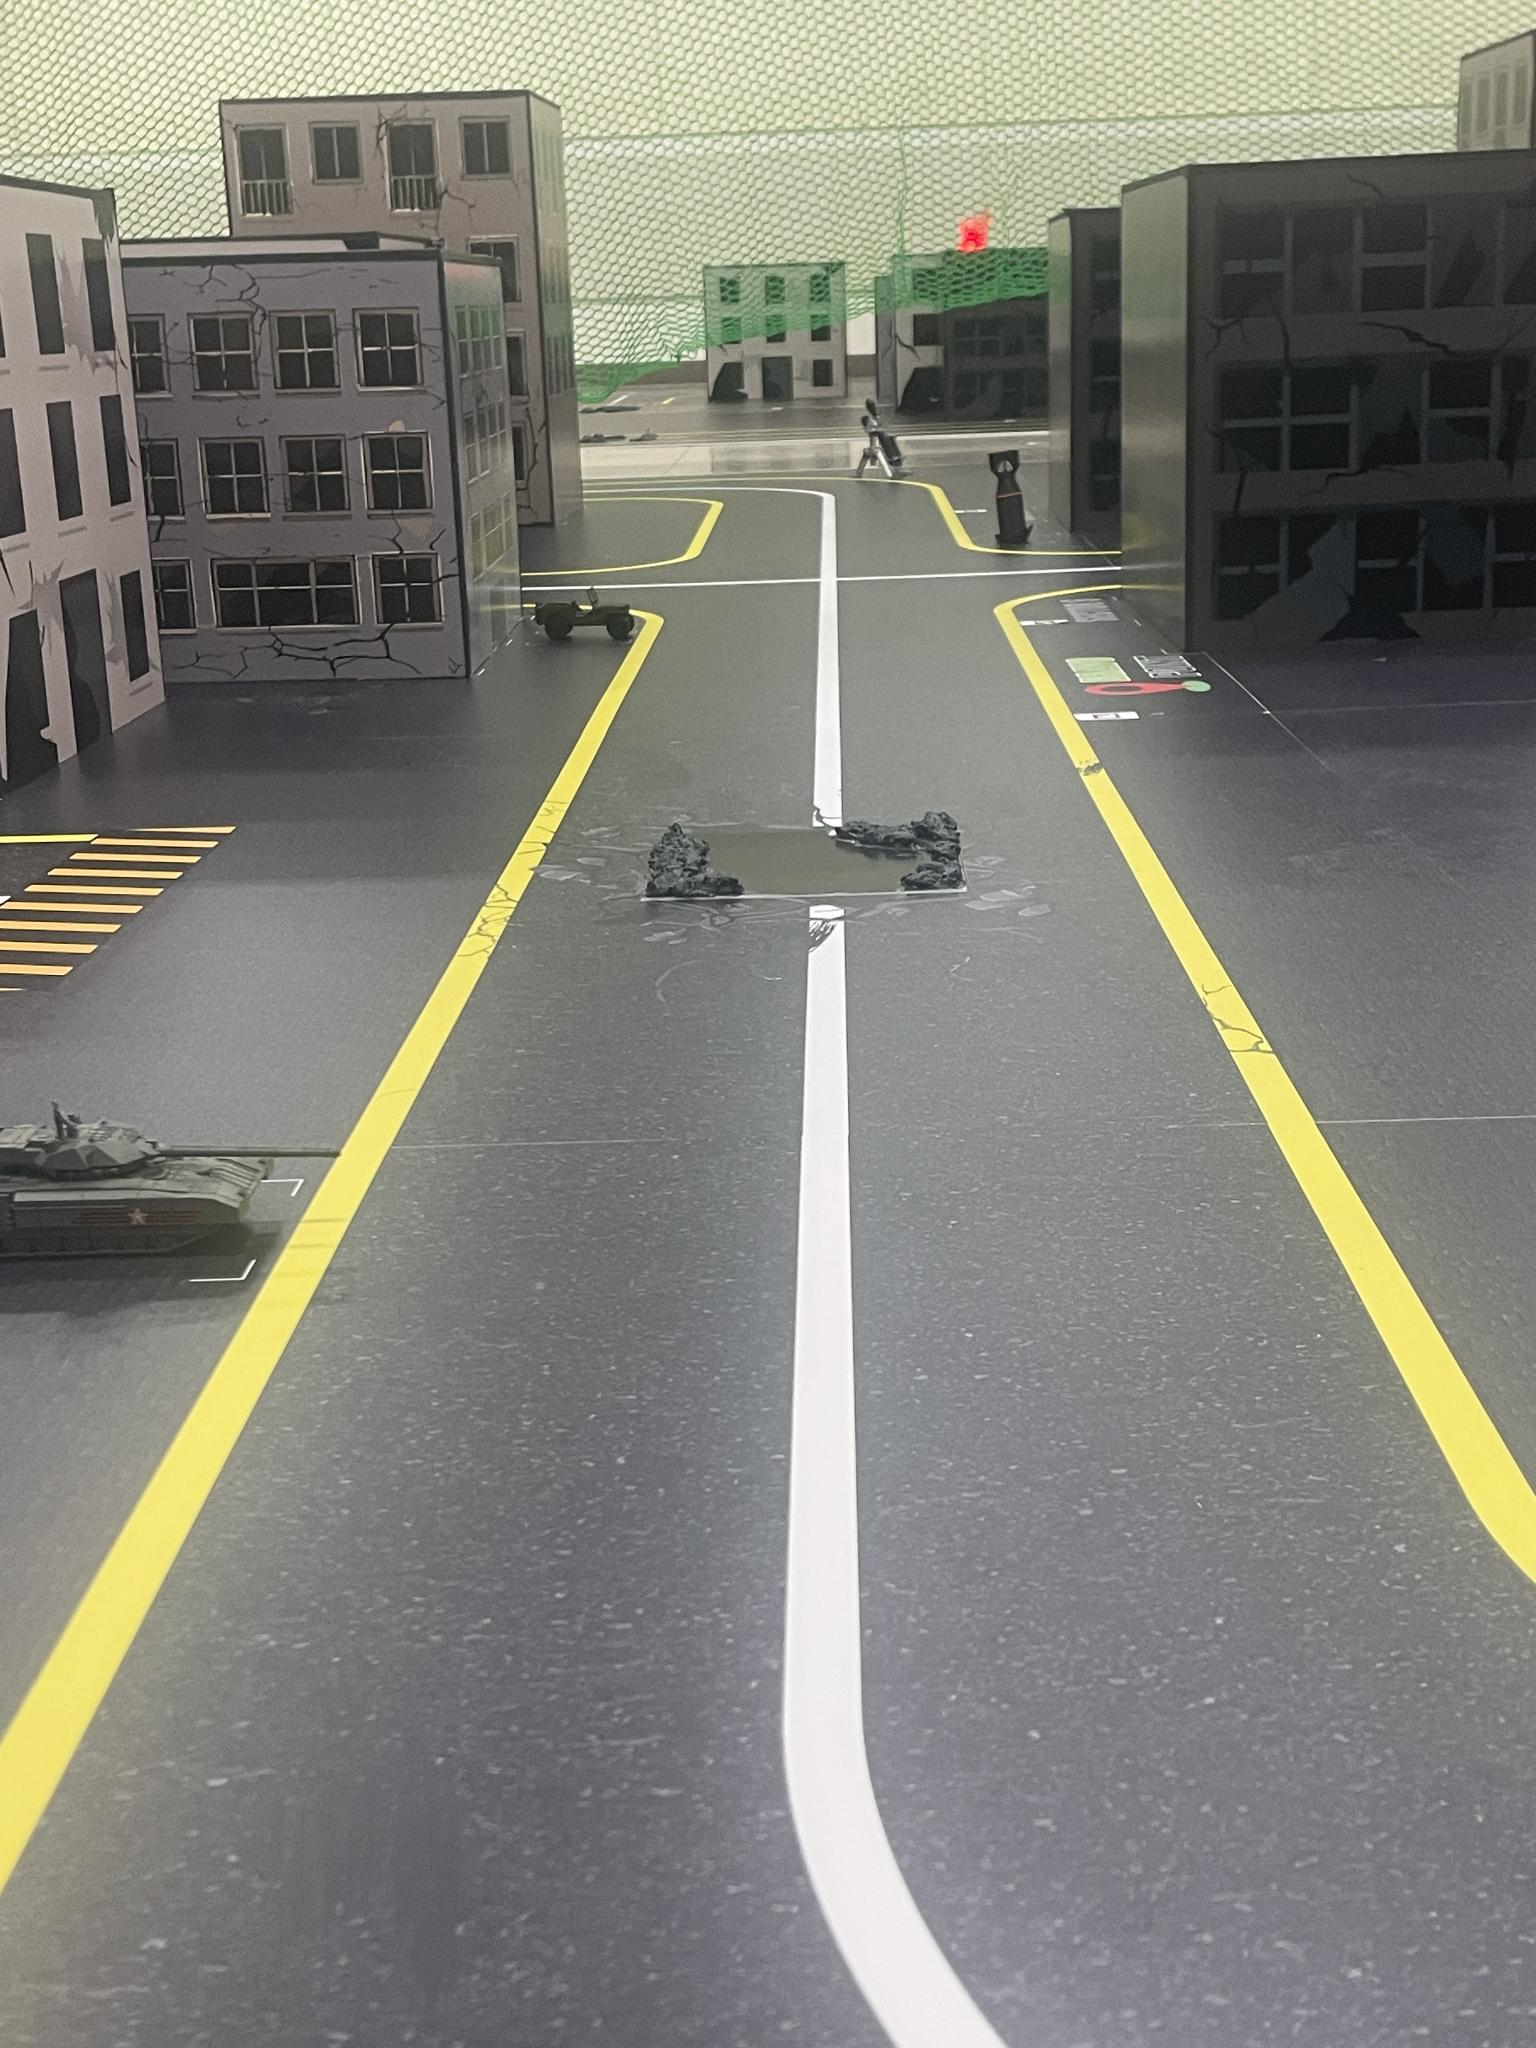Car: (531, 584, 650, 645)
Missile: (990, 444, 1036, 549)
Mortar: (856, 396, 919, 490)
Tank: (0, 1112, 350, 1283)
